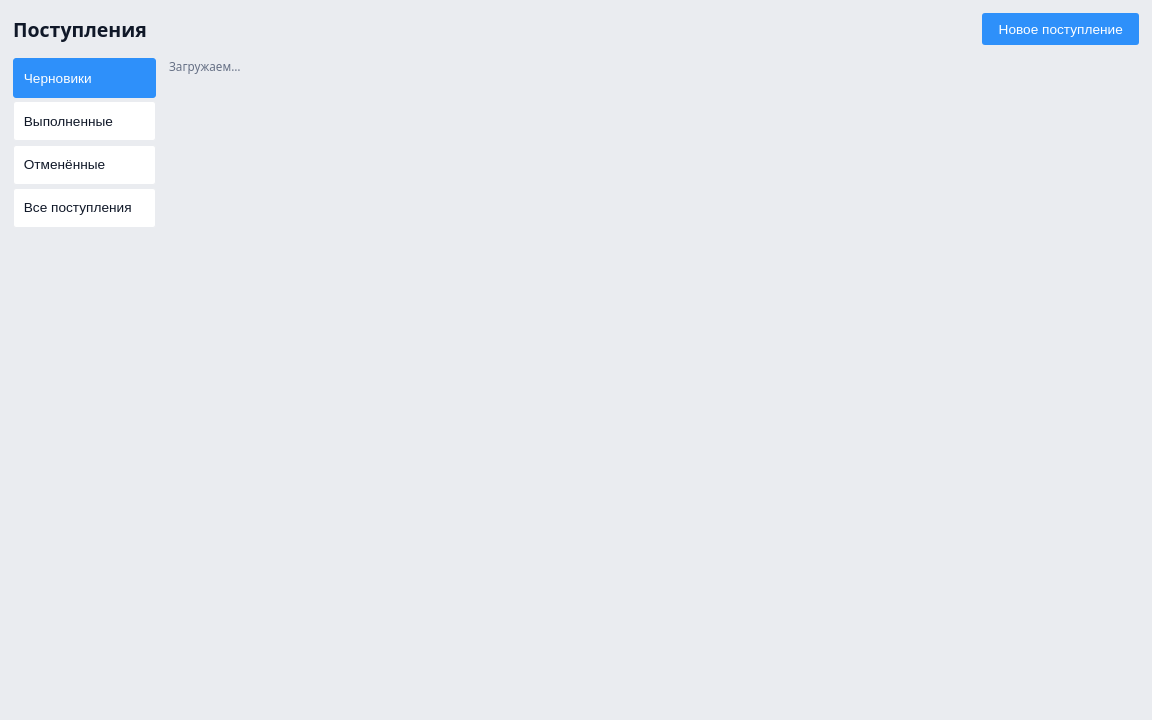
Test: поступления › «Отменить поступление» спрашивает и уводит документ в «Отменён»
This screenshot has width=1152, height=720.
Step 1. Click the button "Новое поступление" → (1061, 29), box [982,13,1139,45]
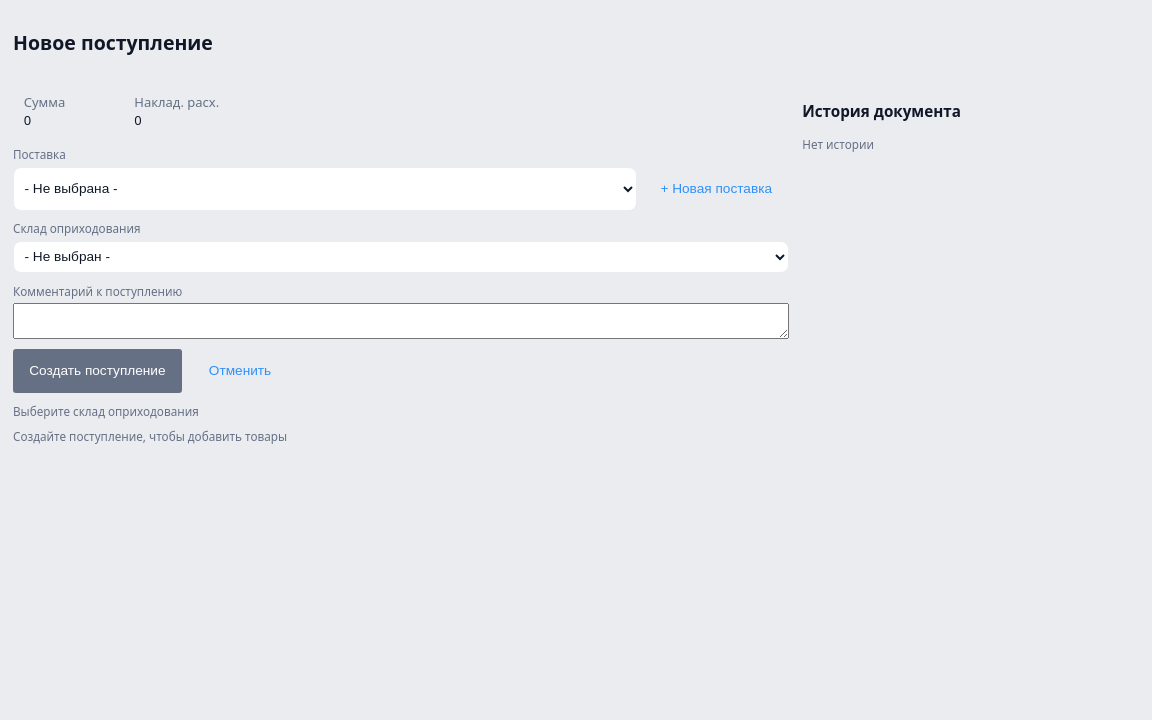
Step 2. Select "Ткацкая" in the dropdown labelled "Склад оприходования" → (401, 257), box [13,241,789,273]
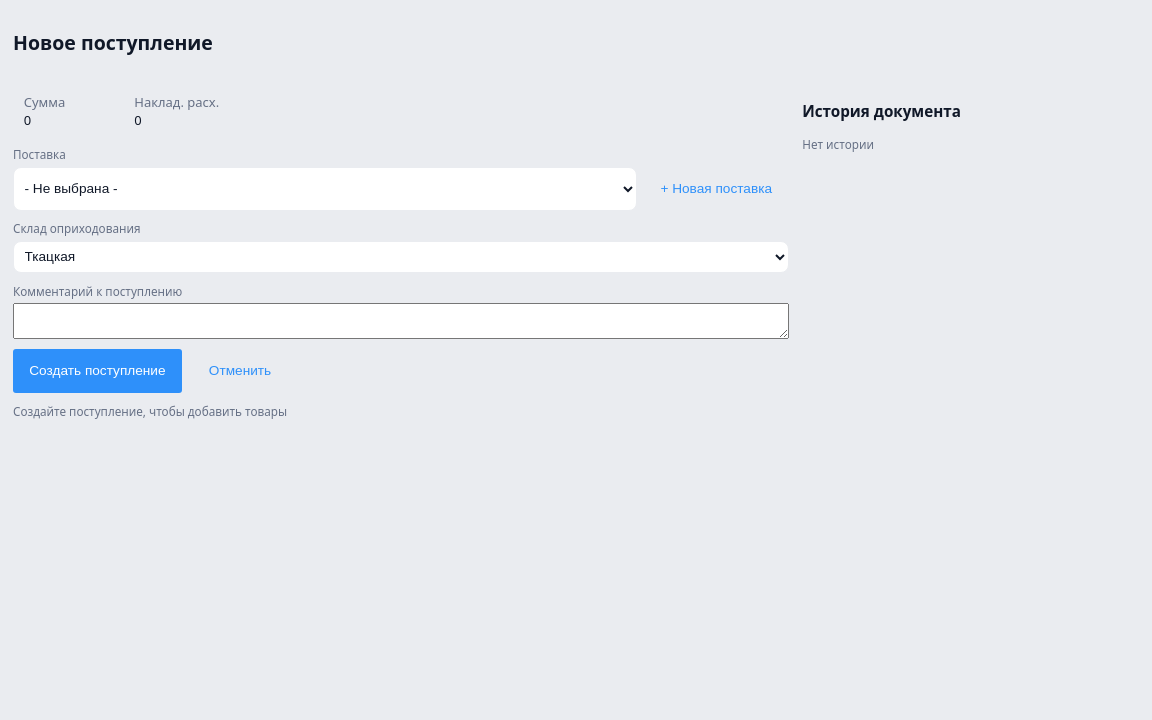
Step 3. Click the button "Создать поступление" → (97, 371), box [13,349,182,393]
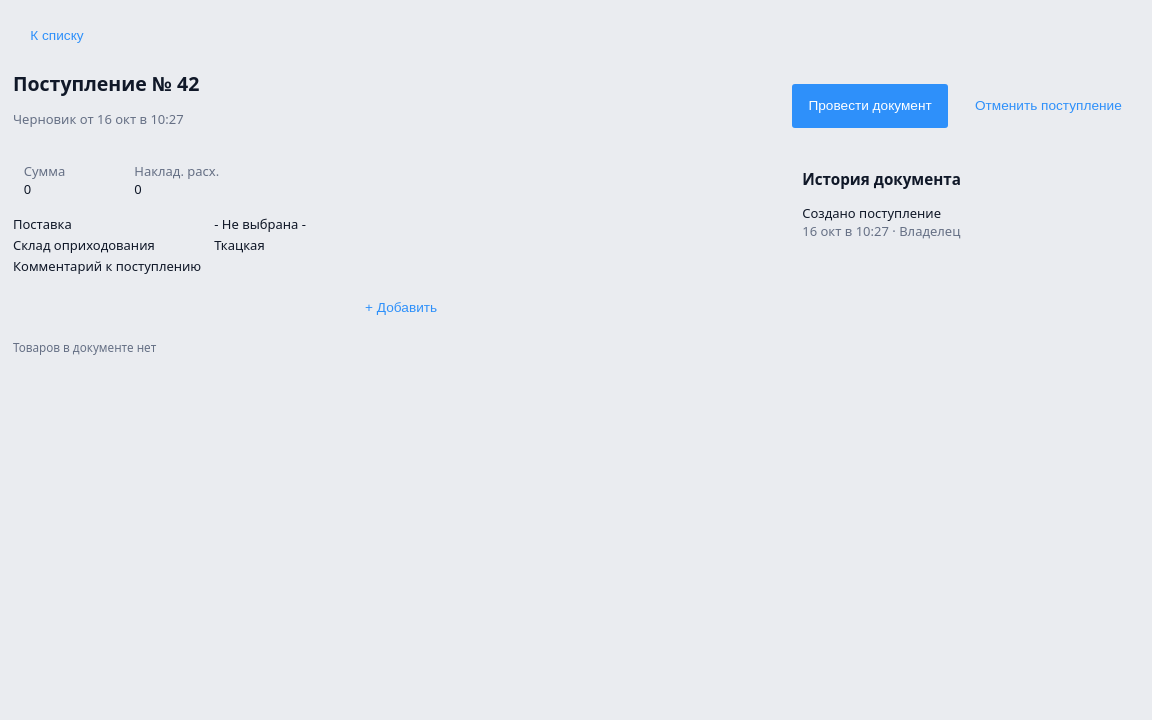
Step 4. Click the button "Отменить поступление" → (1048, 106), box [958,84,1139,128]
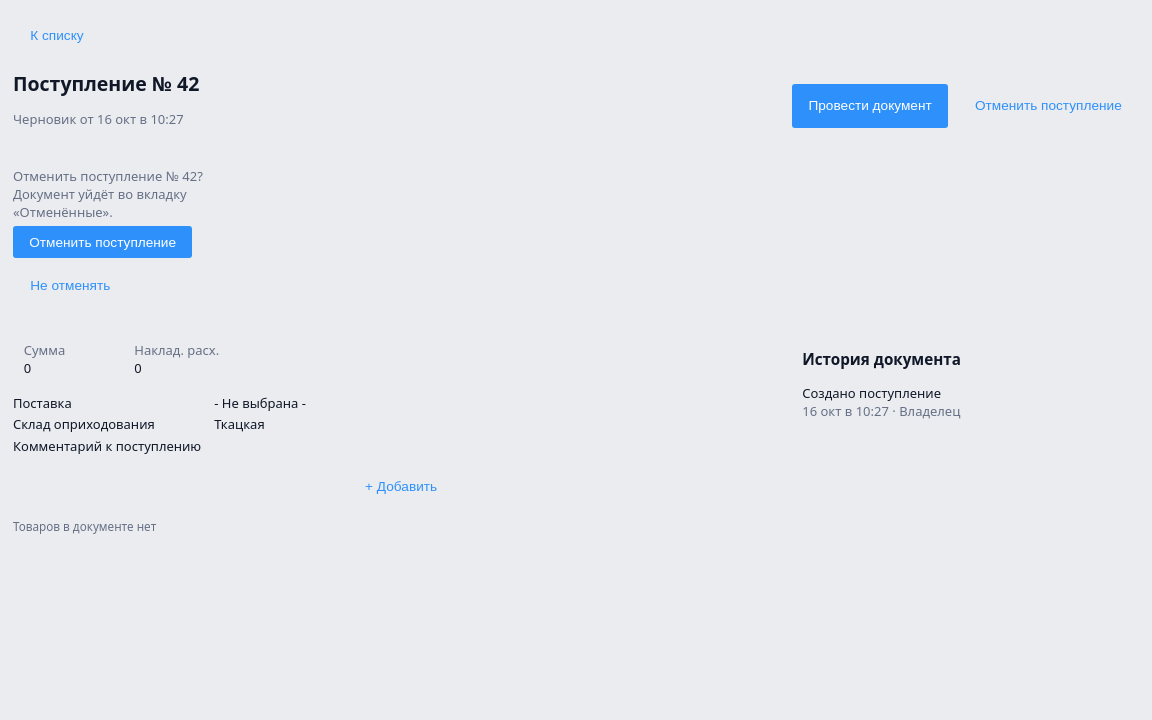
Step 5. Click the button "Отменить поступление" below "Отменить поступление №" → (103, 242), box [13,226,192,258]
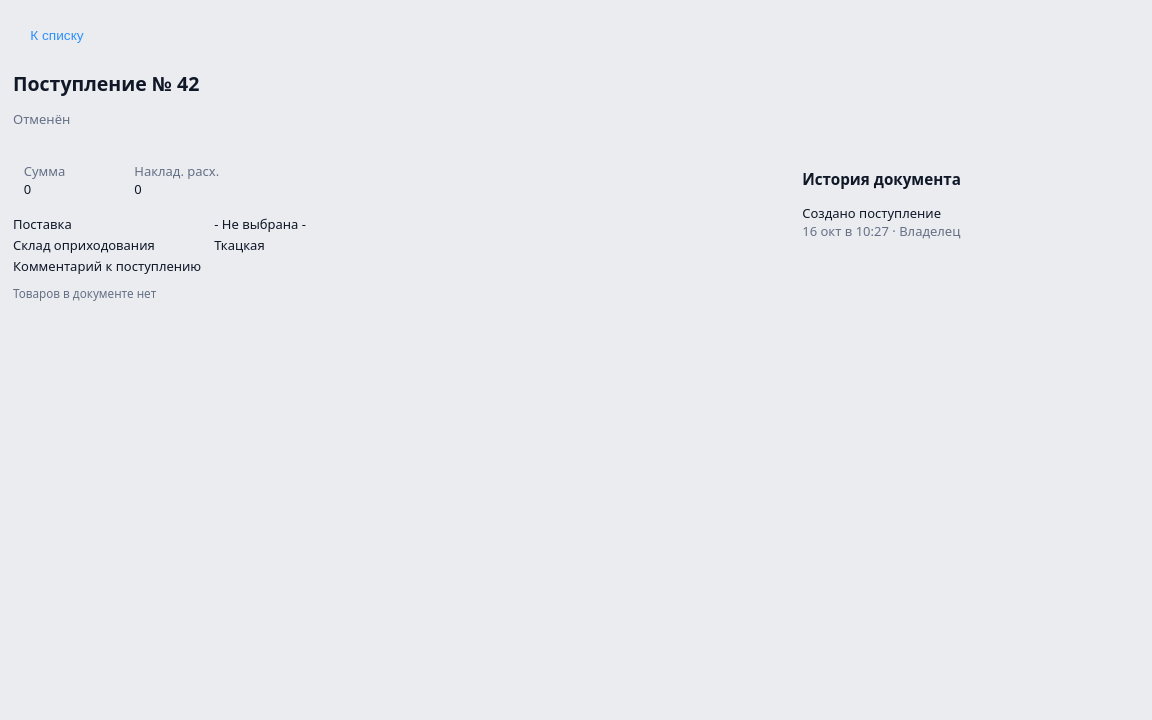
Expected: the text "Отменён" is shown, [13,110,70,128]
